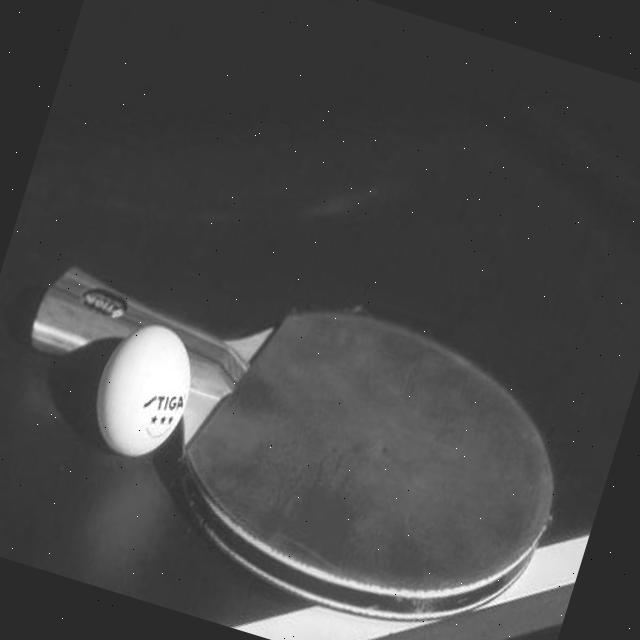ping-pong-ball: (78, 309, 210, 468)
